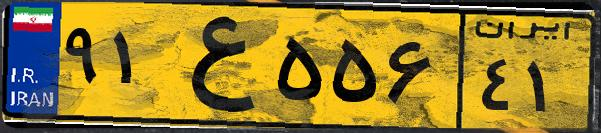1: (525, 38, 570, 115), (110, 28, 158, 98)
4: (475, 38, 525, 113)
5: (270, 28, 330, 110), (330, 28, 385, 110)
6: (385, 28, 445, 110)
9: (57, 26, 110, 100)
ع: (158, 12, 270, 120)
